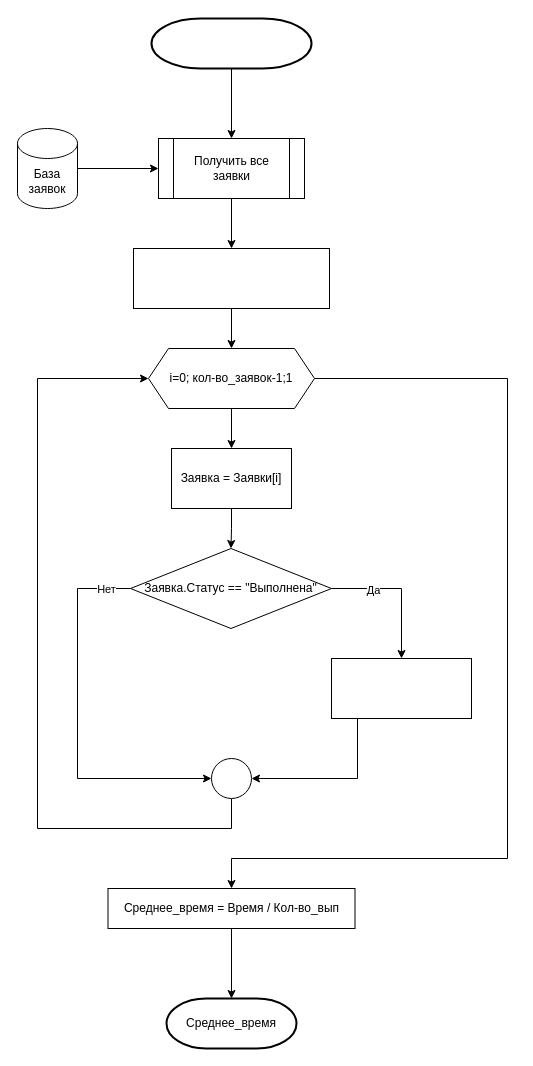
Some shapes in this 533 by 1066 pixel diagram are drawn without their labels. The box of each missing label's shape, as (x1, y1, x2, y2) in pixels:
Кол-во_вып++ Время += Заявка.Время: (330, 658, 472, 718)
Кол-во_заявок = Заявки.Кол-во() Кол-во_вып := 0 Время := 0: (132, 248, 330, 308)
Среднее время(): (150, 17, 312, 69)
